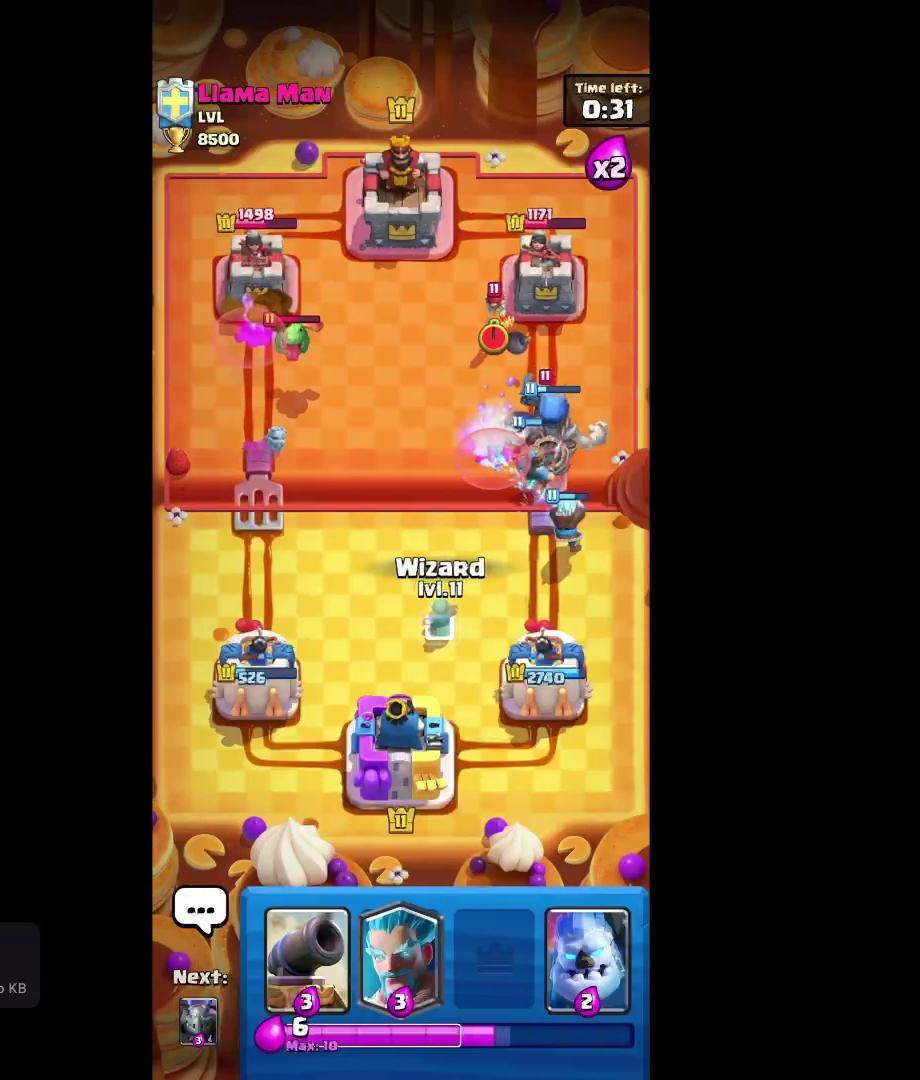Baby Dragon: (262, 305, 325, 364)
